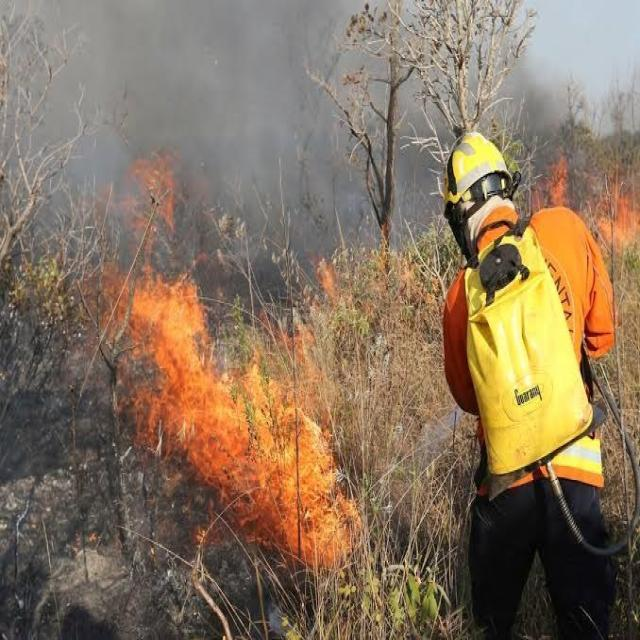Fire: (204, 400, 342, 553), (131, 280, 201, 443)
